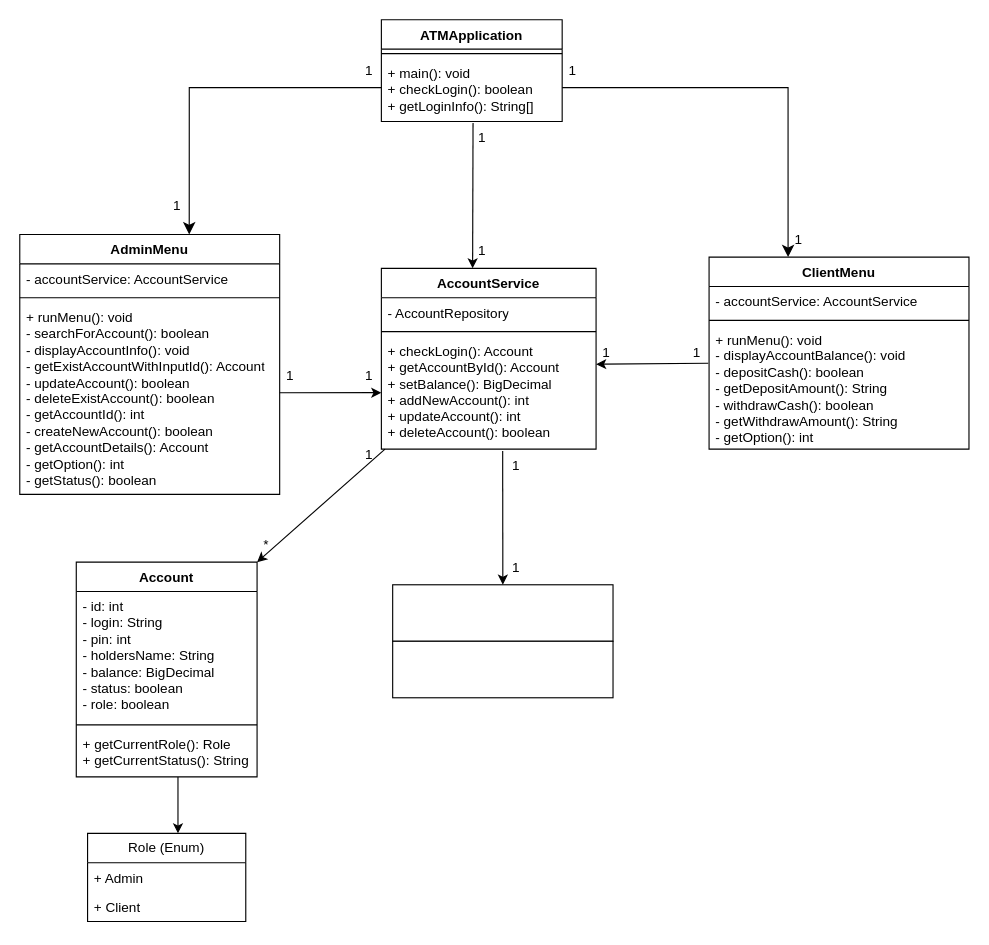
Image size: 989x945. Some labels were removed from this diagram. The centre of each missing label's shape, as x and y in pixels:
+ findByLoginAndPin(): Account + updateAccountBy(): void: point 502,669
«interface» AccountRepository: point 502,612
